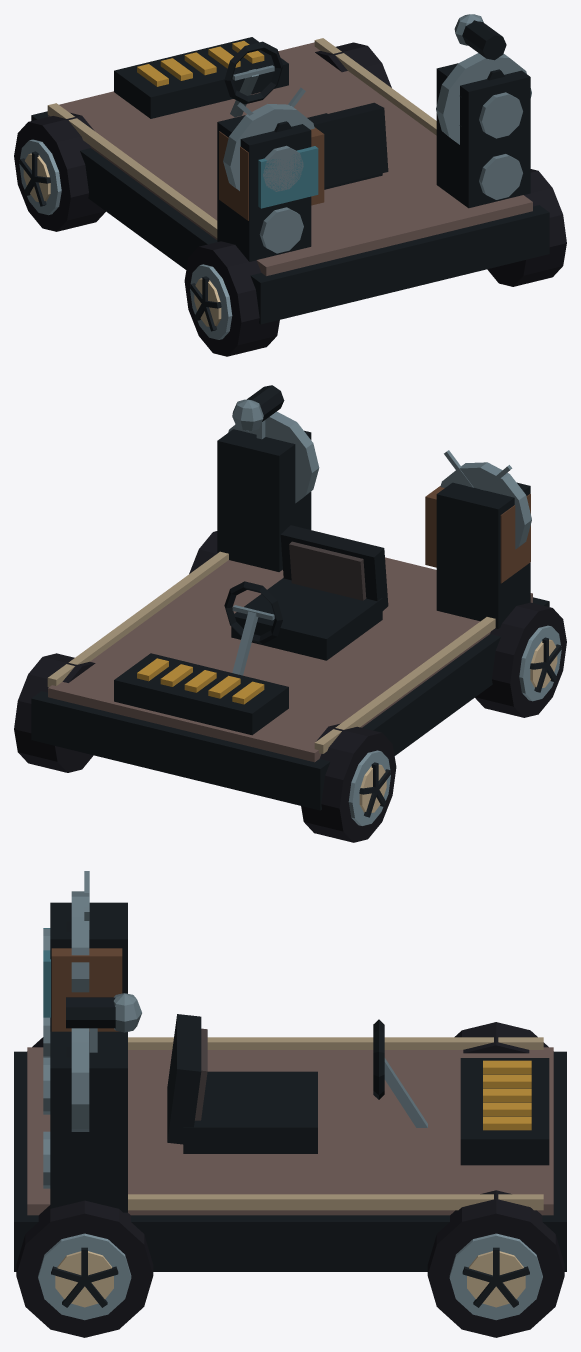
Rendered from kart.glb.
3 views of the same model, one above another, from view 1: azimuth 30°, elevation 25°; view 2: azimuth 150°, elevation 25°; view 3: azimuth 270°, elevation 25° (orthographic). The views are drawn at different scales.
Parts seen in each view (by area): view 1: identity-stage-stage-platform-and-pa-towers, wheel-rear-left, wheel-front-left, identity-stage-driver-cockpit, identity-stage-motif-film, identity-stage-motif-television, wheel-rear-right, identity-stage-motif-microphone, wheel-front-right; view 2: identity-stage-stage-platform-and-pa-towers, identity-stage-driver-cockpit, wheel-front-left, wheel-rear-left, identity-stage-motif-film, wheel-front-right, identity-stage-motif-television, identity-stage-motif-microphone; view 3: identity-stage-stage-platform-and-pa-towers, identity-stage-driver-cockpit, wheel-front-right, wheel-rear-right, identity-stage-motif-television, identity-stage-motif-film, identity-stage-motif-microphone, wheel-front-left.
Part boxes in pixels (x1,y1,x2,y2): identity-stage-stage-platform-and-pa-towers: (31, 37, 549, 324); wheel-rear-left: (184, 241, 279, 356); wheel-front-left: (14, 112, 105, 231); identity-stage-driver-cockpit: (224, 41, 388, 189); identity-stage-motif-film: (223, 53, 531, 190); identity-stage-motif-television: (219, 87, 324, 220); wheel-rear-right: (487, 169, 566, 286); identity-stage-motif-microphone: (454, 14, 506, 60); wheel-front-right: (315, 42, 391, 87); identity-stage-stage-platform-and-pa-towers: (31, 429, 549, 810); identity-stage-driver-cockpit: (224, 525, 388, 675); wheel-front-left: (301, 723, 396, 842); wheel-rear-left: (475, 602, 566, 717); identity-stage-motif-film: (228, 411, 531, 549); wheel-front-right: (14, 653, 95, 772); identity-stage-motif-television: (425, 450, 530, 583); identity-stage-motif-microphone: (232, 385, 284, 439); identity-stage-stage-platform-and-pa-towers: (14, 902, 566, 1271); identity-stage-driver-cockpit: (167, 1014, 427, 1153); wheel-front-right: (427, 1190, 564, 1337); wheel-rear-right: (16, 1200, 153, 1337); identity-stage-motif-television: (43, 871, 122, 1031); identity-stage-motif-film: (66, 891, 89, 1131); identity-stage-motif-microphone: (66, 993, 141, 1052); wheel-front-left: (454, 1022, 548, 1053).
Bounding box in the file's own units: 2.16 × 1.57 × 2.5.
